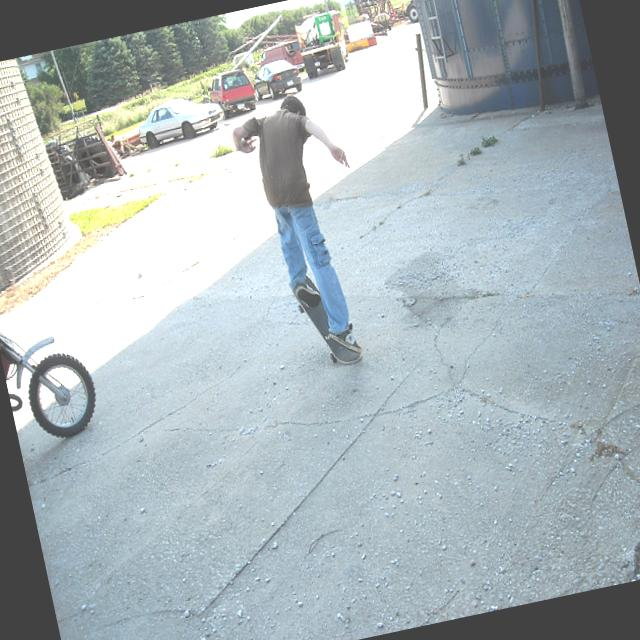Vehicle: (0, 310, 103, 451), (133, 89, 229, 149), (292, 5, 353, 81), (203, 64, 260, 120), (248, 55, 304, 102)
